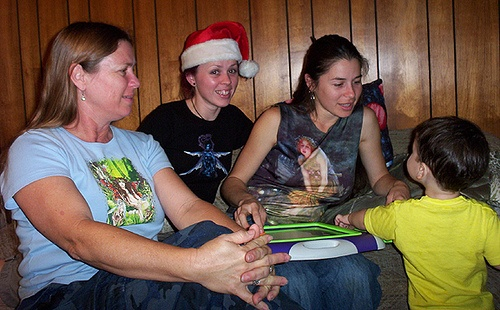head: (48, 22, 139, 118), (401, 115, 493, 203), (175, 16, 259, 110), (295, 32, 371, 119)
person: (2, 21, 285, 310), (207, 30, 411, 310), (337, 117, 496, 308), (136, 26, 256, 209)
